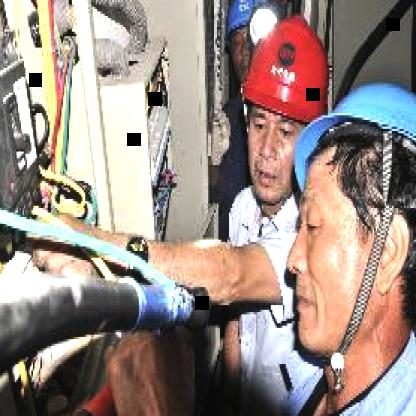helmet: (270, 66, 416, 392), (234, 9, 344, 231), (223, 0, 256, 72)
